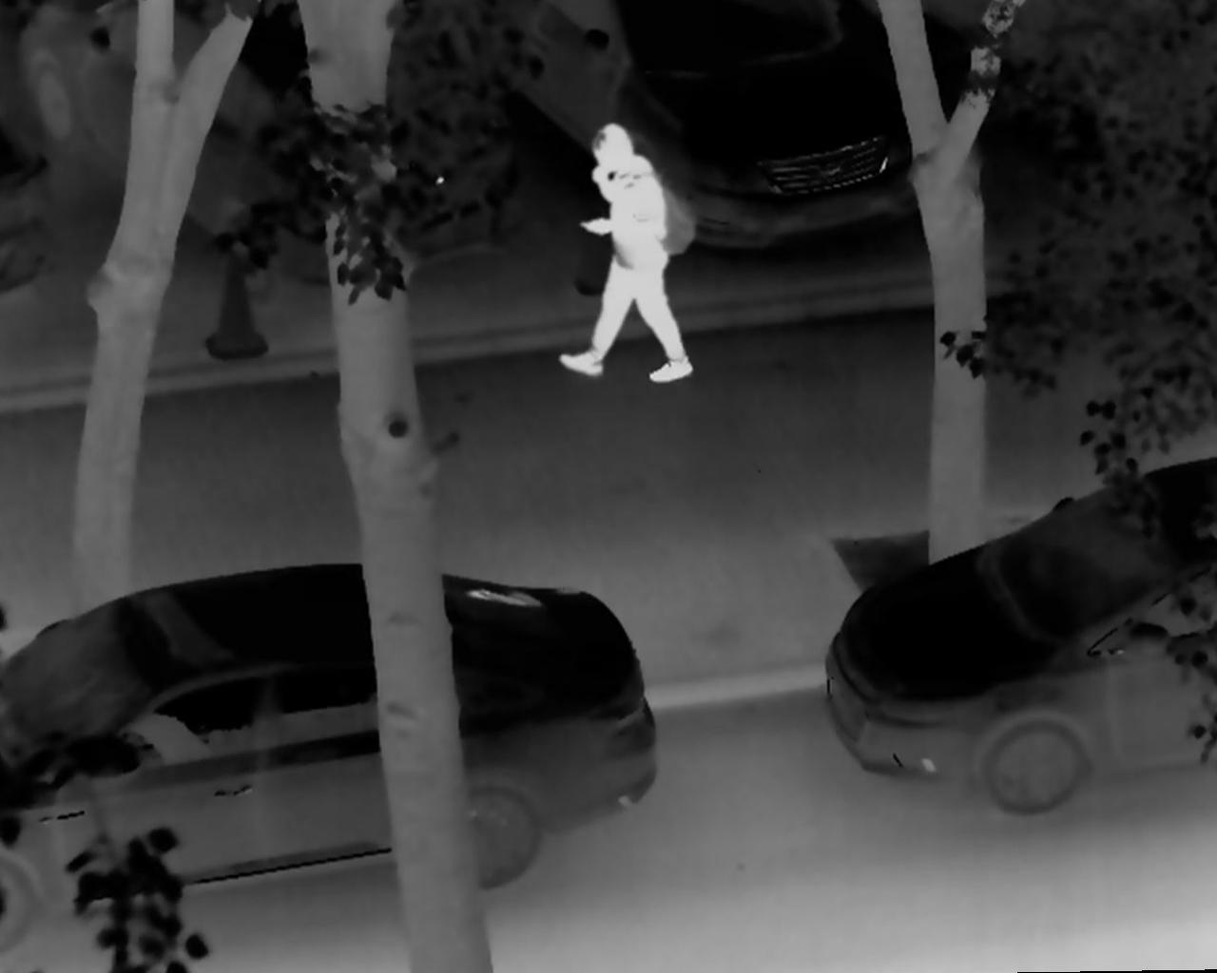person: (551, 124, 698, 384)
